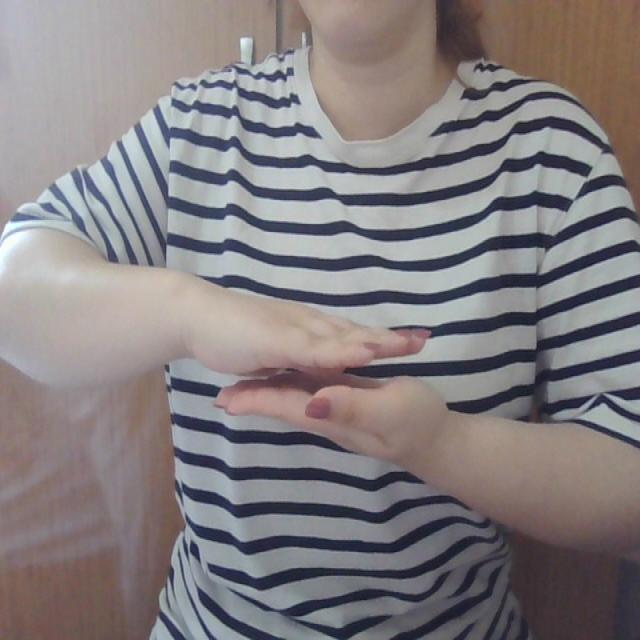Arkadas: (116, 286, 565, 461)
